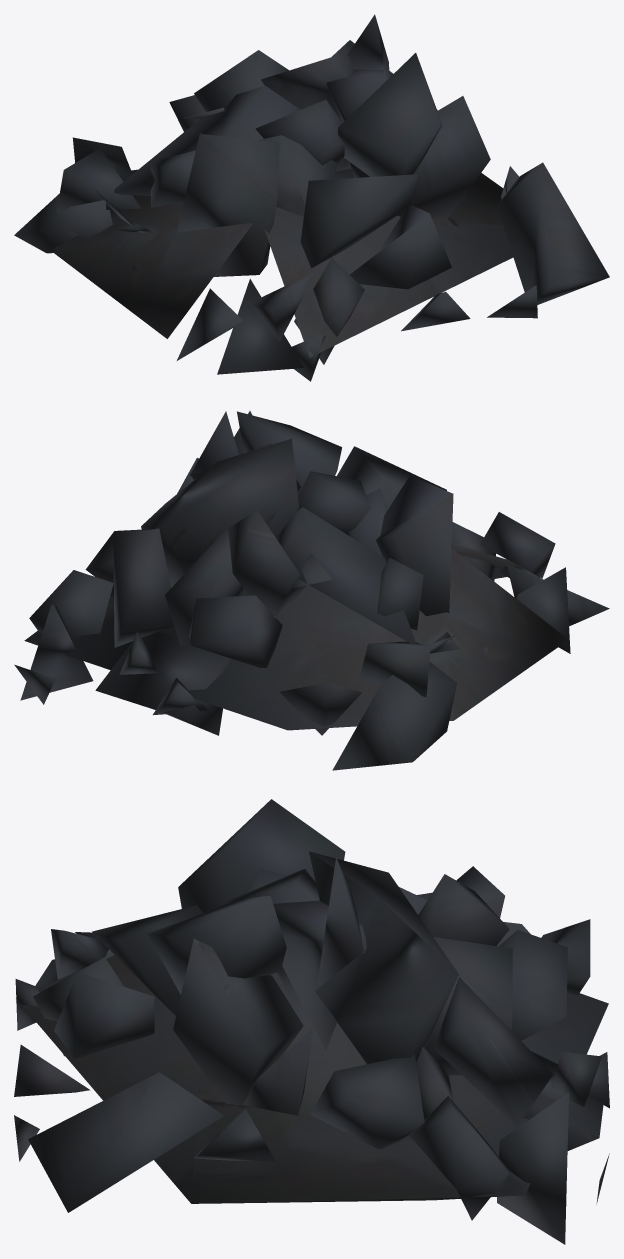
File: source_energy-lod1.d0ae4d67f7f3.glb
3 renders of one model, top to bottom at view 1: azimuth 30°, elevation 25°; view 2: azimuth 150°, elevation 25°; view 3: azimuth 270°, elevation 25°, orthographic. The views are drawn at different scales.
Bounding box in the file's own units: 1 × 0.587 × 1.
1 material, 1 textured.
